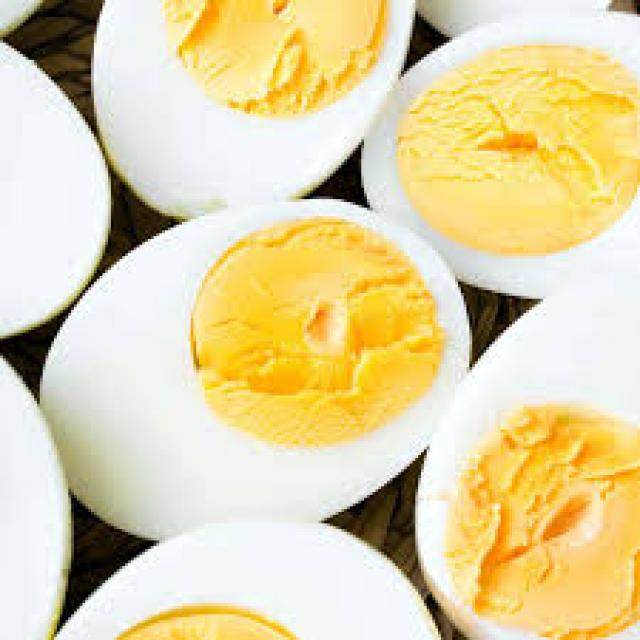boiled egg: (2, 0, 620, 640)
